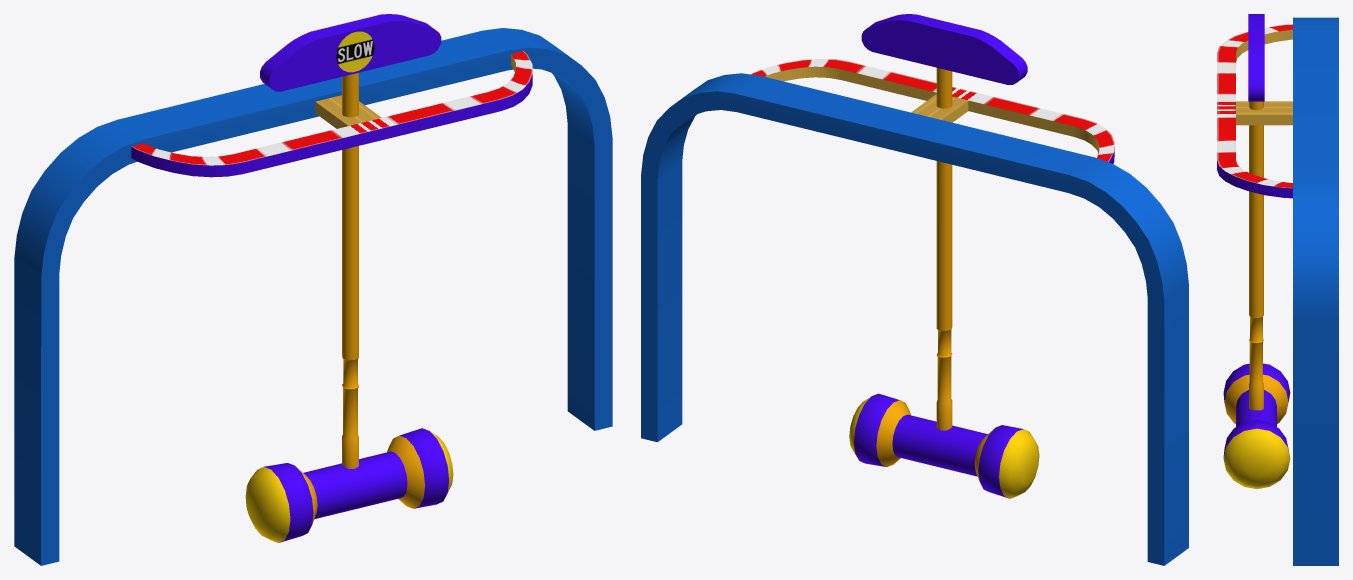
3 views of the same model, side by side, from view 1: azimuth 30°, elevation 25°; view 2: azimuth 150°, elevation 25°; view 3: azimuth 270°, elevation 25° (orthographic). The views are drawn at different scales.
Visible parts, largest first — view 1: H1_Stand, H1_Hammer; view 2: H1_Stand, H1_Hammer; view 3: H1_Stand, H1_Hammer.
Part boxes in pixels (box(x1,y1,x2,y2)): H1_Stand: box(14, 28, 612, 565); H1_Hammer: box(245, 14, 453, 542); H1_Stand: box(641, 59, 1188, 565); H1_Hammer: box(849, 14, 1039, 498); H1_Stand: box(1217, 17, 1338, 565); H1_Hammer: box(1223, 14, 1290, 489).
Size of the model in its own units: 13.15 by 10.87 by 2.83.
